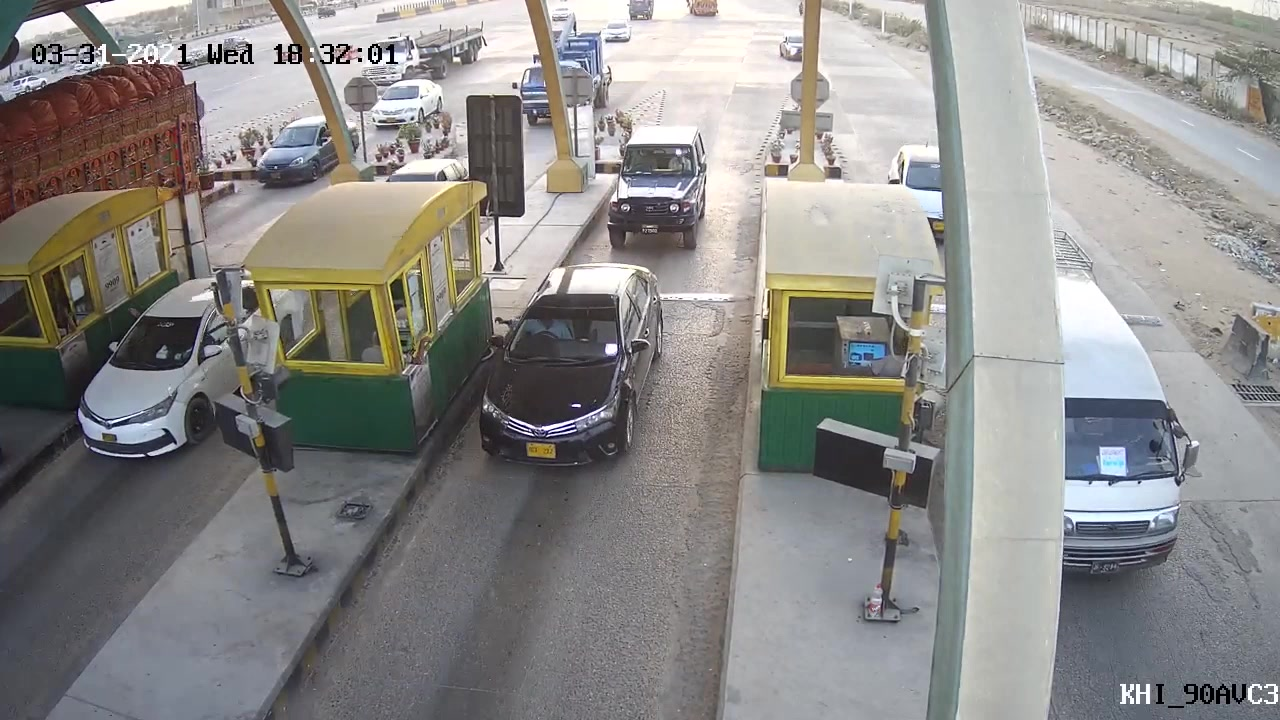F1: (465, 258, 668, 479), (591, 116, 723, 254)
